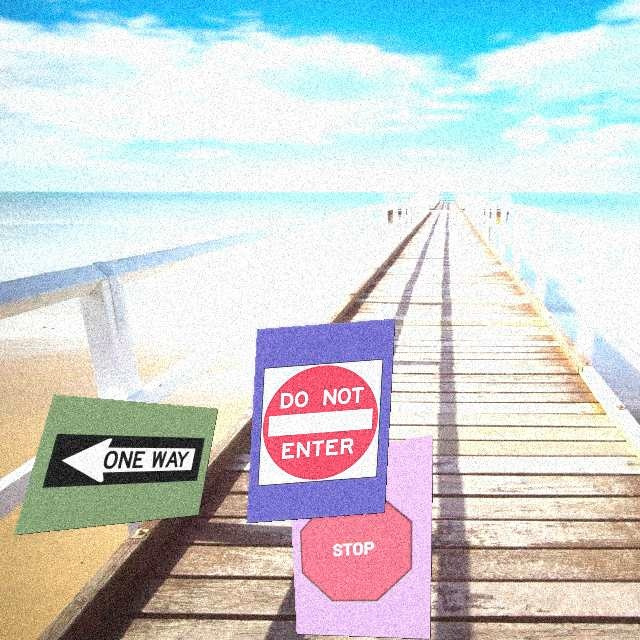DO_NOT_ENTER: (258, 359, 383, 486)
ONE_WAY_ left: (42, 426, 205, 500)
STOP: (299, 487, 412, 605)
